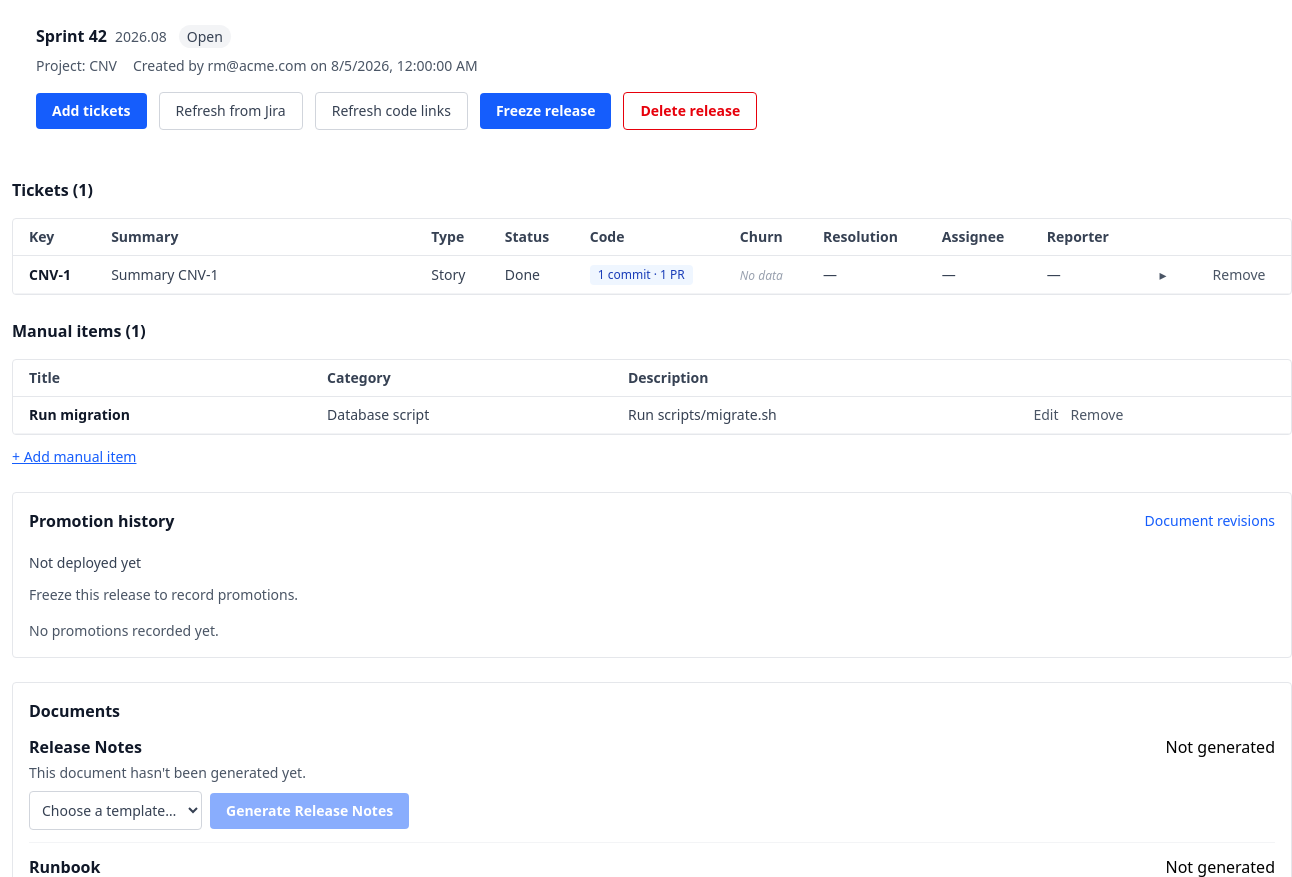
Scenario: ReleaseDetailRoute › code links › clicking anywhere on a ticket row toggles its details
The image size is (1292, 877).
Click the cell "Summary CNV-1".
click(165, 274)  # box [95, 256, 415, 294]
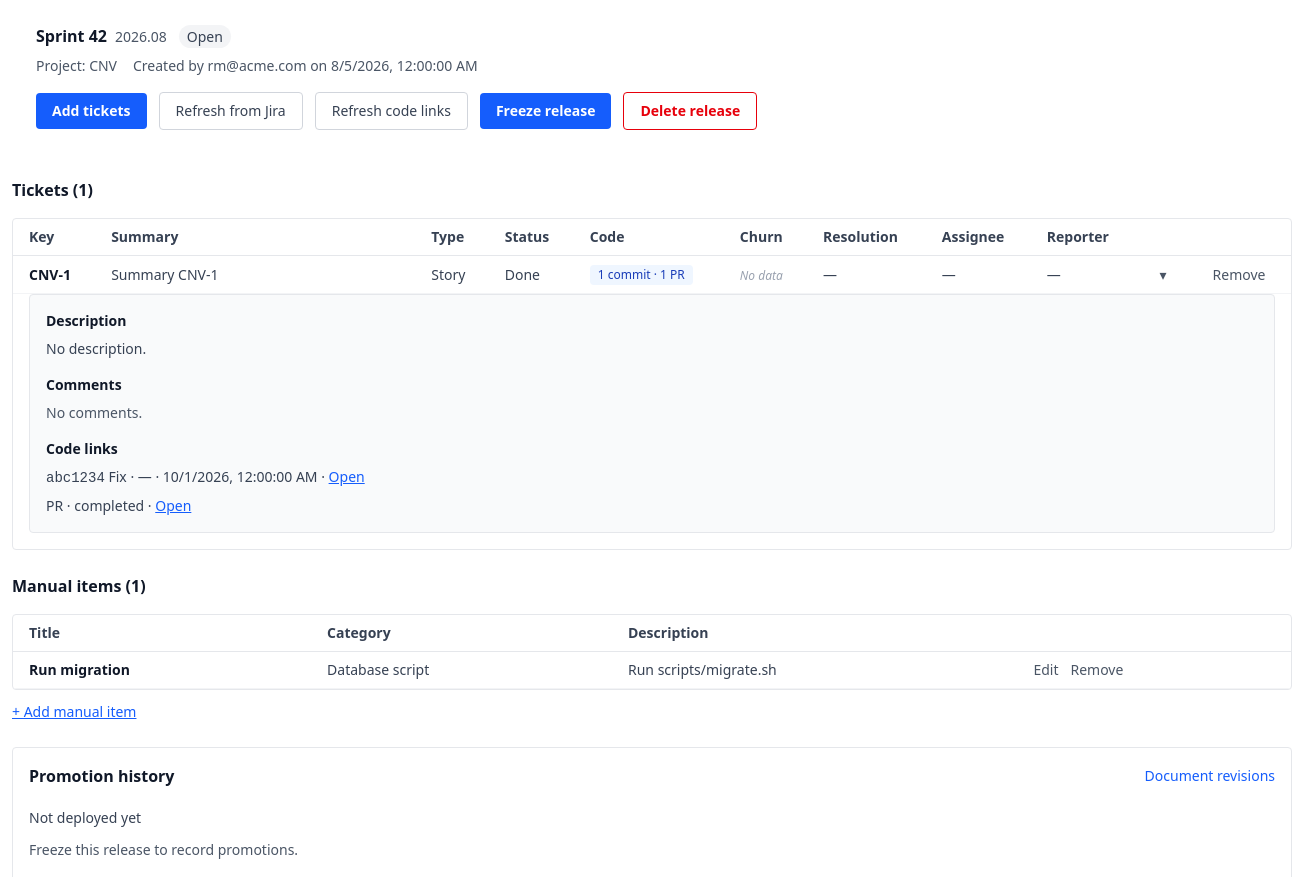
Expected: the button "▾" is expanded, [1151, 264, 1174, 284]
Click the cell "Summary CNV-1".
click(165, 274)  # box [95, 256, 415, 294]
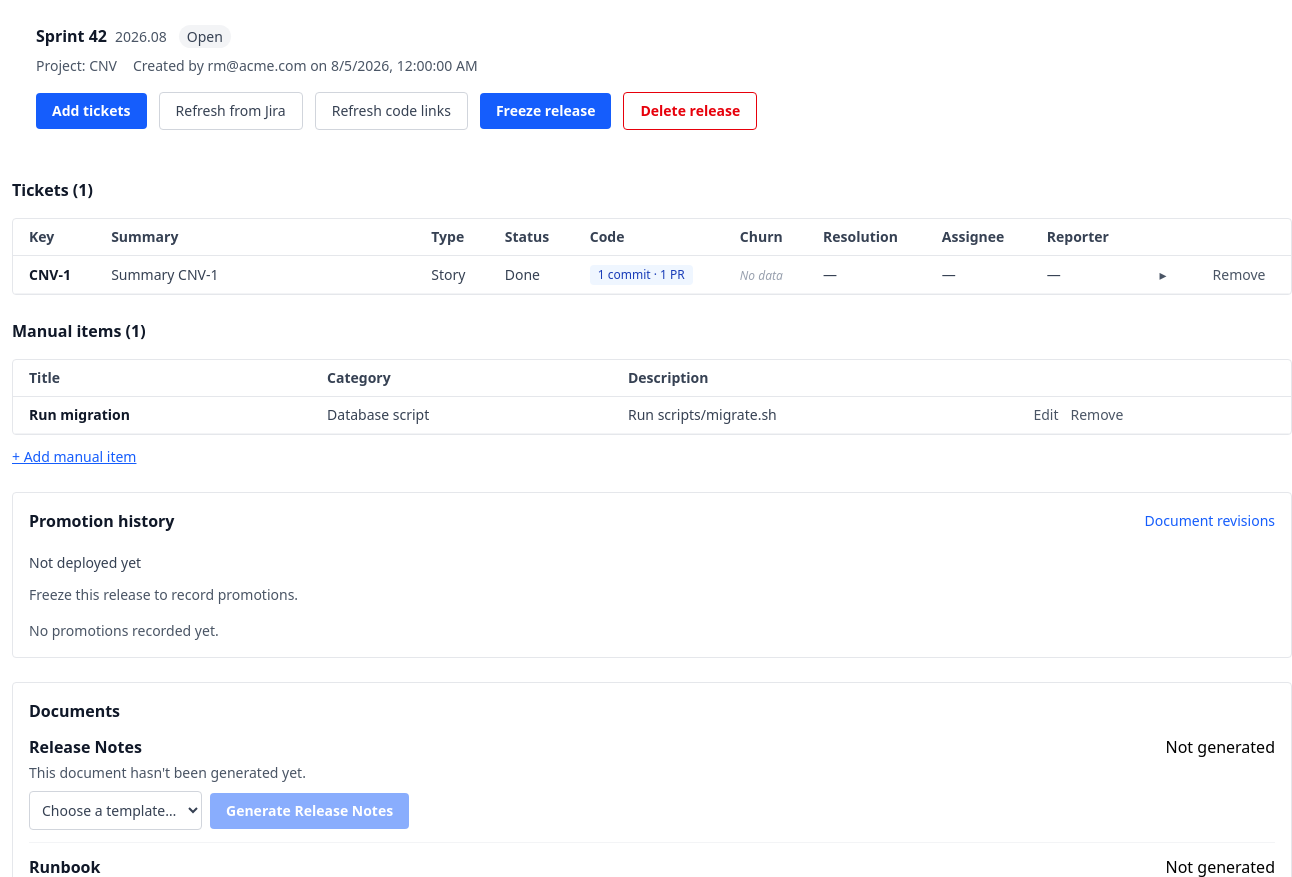
Expected: the button "▸" is collapsed, [1151, 264, 1174, 284]
